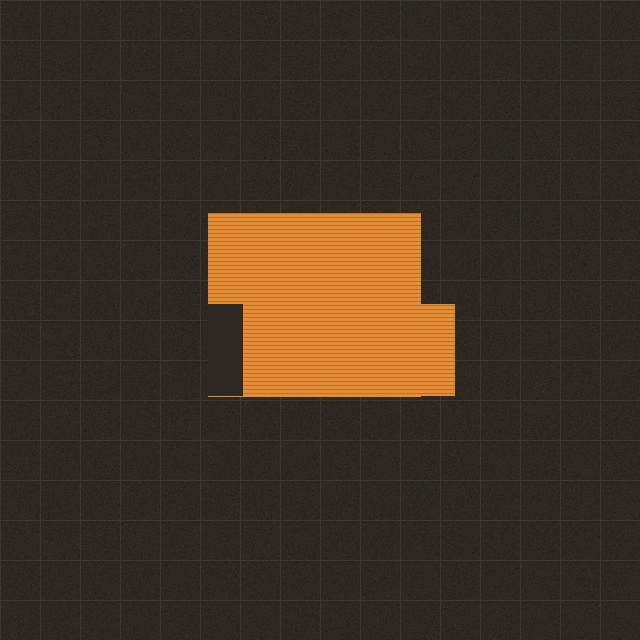layer_shift: (198, 284, 465, 324)
